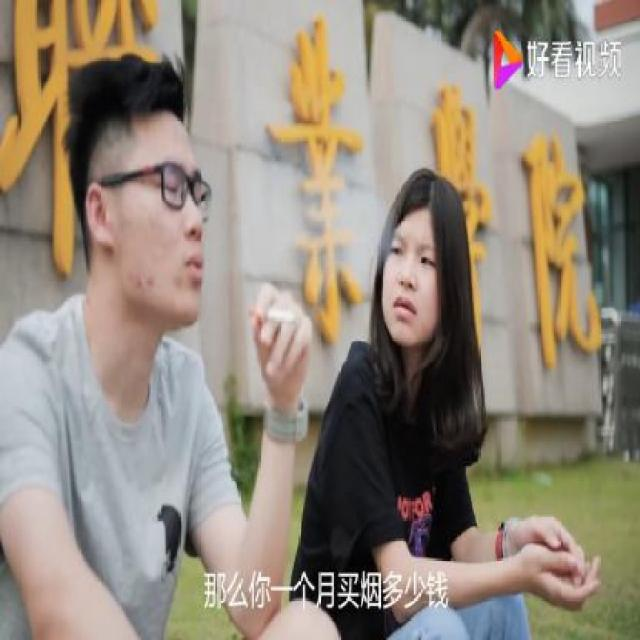cigarette: (240, 297, 303, 338)
